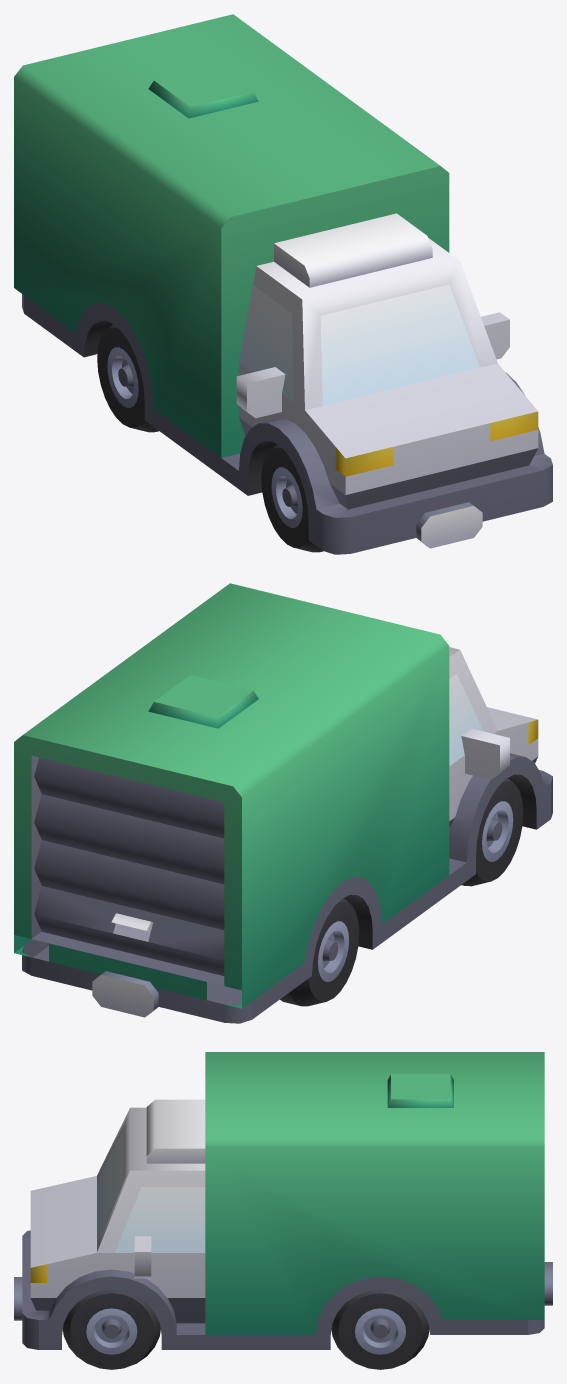
The model's file is delivery.glb.
The picture shows the model from 3 angles, top to bottom: view 1: azimuth 30°, elevation 25°; view 2: azimuth 150°, elevation 25°; view 3: azimuth 270°, elevation 25°; orthographic projection. The views are drawn at different scales.
Visible parts, largest first — view 1: body, wheel-front-right, wheel-back-right; view 2: body, door, wheel-back-right, wheel-front-right; view 3: body, wheel-back-left, wheel-front-left.
Boxes of the visible parts, x1=… form: body: x1=14, y1=14, x2=552, y2=554; wheel-front-right: x1=261, y1=444, x2=323, y2=552; wheel-back-right: x1=97, y1=324, x2=158, y2=432; body: x1=14, y1=583, x2=552, y2=1023; door: x1=34, y1=757, x2=224, y2=975; wheel-back-right: x1=280, y1=898, x2=359, y2=1006; wheel-front-right: x1=461, y1=778, x2=523, y2=886; body: x1=14, y1=1052, x2=552, y2=1349; wheel-back-left: x1=331, y1=1290, x2=429, y2=1369; wheel-front-left: x1=63, y1=1290, x2=160, y2=1369.
Bounding box in the file's own units: 1.5 × 1.65 × 3.25.
1 material, 1 textured.
